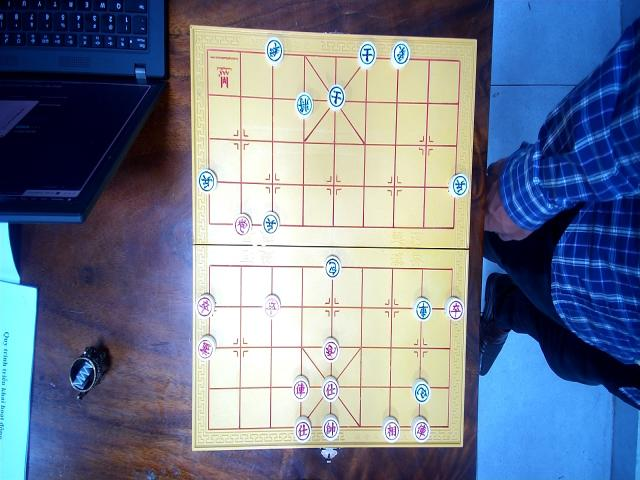piece: (448, 172, 470, 199), (264, 37, 284, 66), (390, 41, 410, 69), (357, 42, 377, 70), (196, 335, 216, 361), (411, 378, 431, 404), (412, 296, 432, 322), (381, 416, 400, 443), (411, 416, 430, 443), (197, 168, 217, 193), (444, 296, 464, 321), (294, 416, 312, 443), (322, 414, 340, 441), (327, 83, 345, 110), (322, 337, 340, 364), (294, 91, 312, 118), (196, 293, 214, 319), (292, 375, 310, 401), (321, 377, 339, 402), (324, 255, 342, 280), (262, 212, 280, 235), (264, 294, 280, 318), (234, 215, 251, 236)
